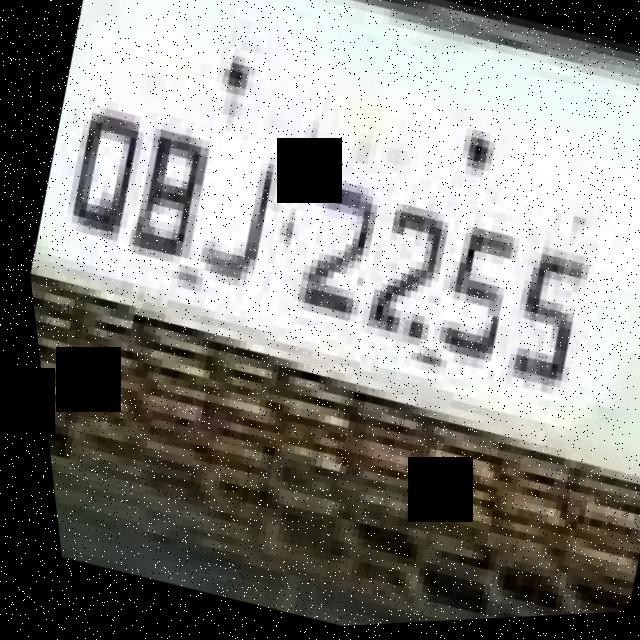5: (476, 229, 605, 407), (412, 217, 533, 379)
B: (112, 115, 219, 273)
J: (167, 132, 297, 304)
Q: (42, 95, 159, 256)
